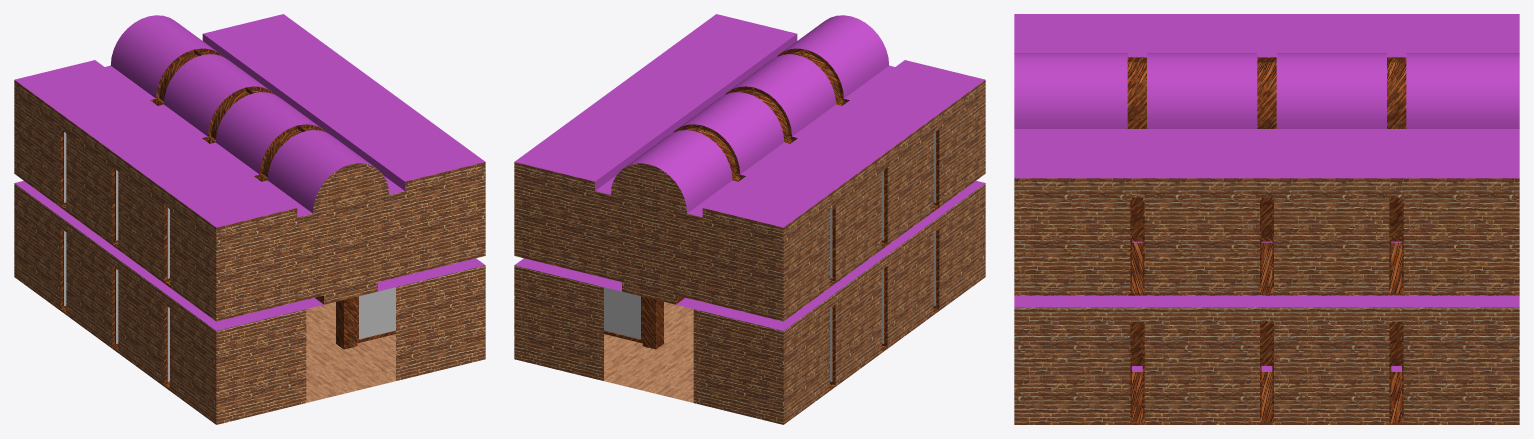
The model's file is small.obj.
The picture shows the model from 3 angles, left to right: view 1: azimuth 30°, elevation 25°; view 2: azimuth 150°, elevation 25°; view 3: azimuth 270°, elevation 25°; orthographic projection. The views are drawn at different scales.
Visible parts, largest first — view 1: Plane.001; view 2: Plane.001; view 3: Plane.001.
Boxes of the visible parts, <box> form: Plane.001: <box>14,14,485,424</box>; Plane.001: <box>514,14,985,424</box>; Plane.001: <box>1014,14,1519,424</box>.
Size of the model in its own units: 3 by 2.42 by 3.9.
